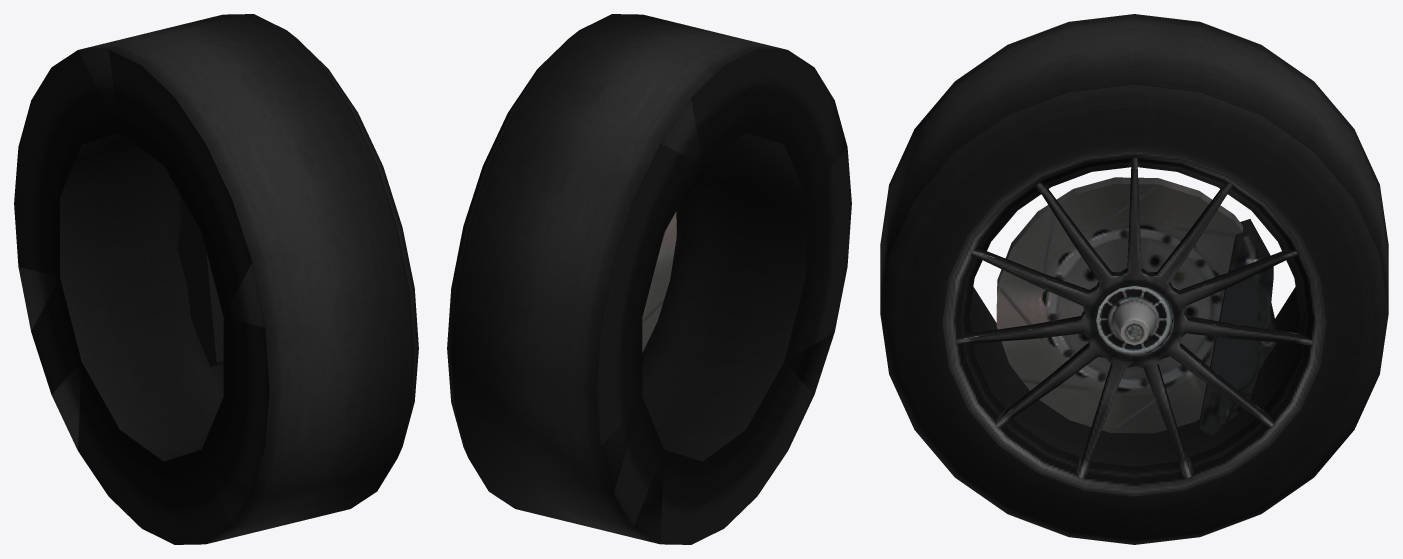
File: WP21_wheelpack.glb
The picture shows the model from 3 angles, left to right: view 1: azimuth 30°, elevation 25°; view 2: azimuth 150°, elevation 25°; view 3: azimuth 270°, elevation 25°; orthographic projection.
Parts seen in each view (by area): view 1: MOD_ND_WP21_tyre, MOD_ND_WP21_rim, MOD_ND_WP21_brakes; view 2: MOD_ND_WP21_tyre, MOD_ND_WP21_rim, MOD_ND_WP21_brakes; view 3: MOD_ND_WP21_tyre, MOD_ND_WP21_rim, MOD_ND_WP21_brakes.
Part boxes in pixels (left/top/right/bottom): MOD_ND_WP21_tyre: left=14, top=14, right=418, bottom=544; MOD_ND_WP21_rim: left=60, top=133, right=223, bottom=461; MOD_ND_WP21_brakes: left=177, top=194, right=223, bottom=366; MOD_ND_WP21_tyre: left=447, top=14, right=851, bottom=544; MOD_ND_WP21_rim: left=642, top=133, right=805, bottom=461; MOD_ND_WP21_brakes: left=642, top=211, right=676, bottom=352; MOD_ND_WP21_tyre: left=880, top=14, right=1388, bottom=544; MOD_ND_WP21_rim: left=942, top=148, right=1326, bottom=496; MOD_ND_WP21_brakes: left=996, top=177, right=1276, bottom=436.
Size of the model in its own units: 0.2641 by 0.6414 by 0.6414.
2 materials, 2 textured.
